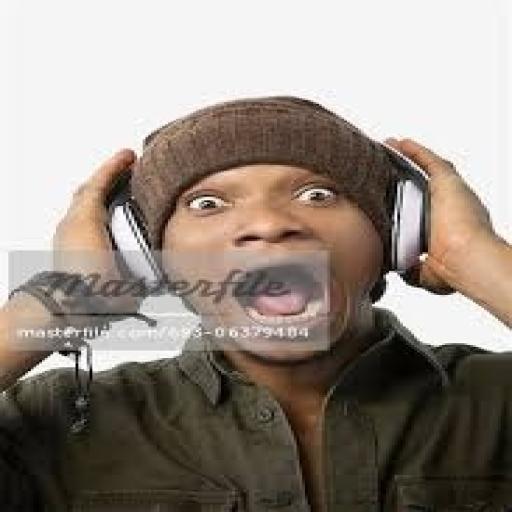listening_to_music: (0, 93, 509, 510)
